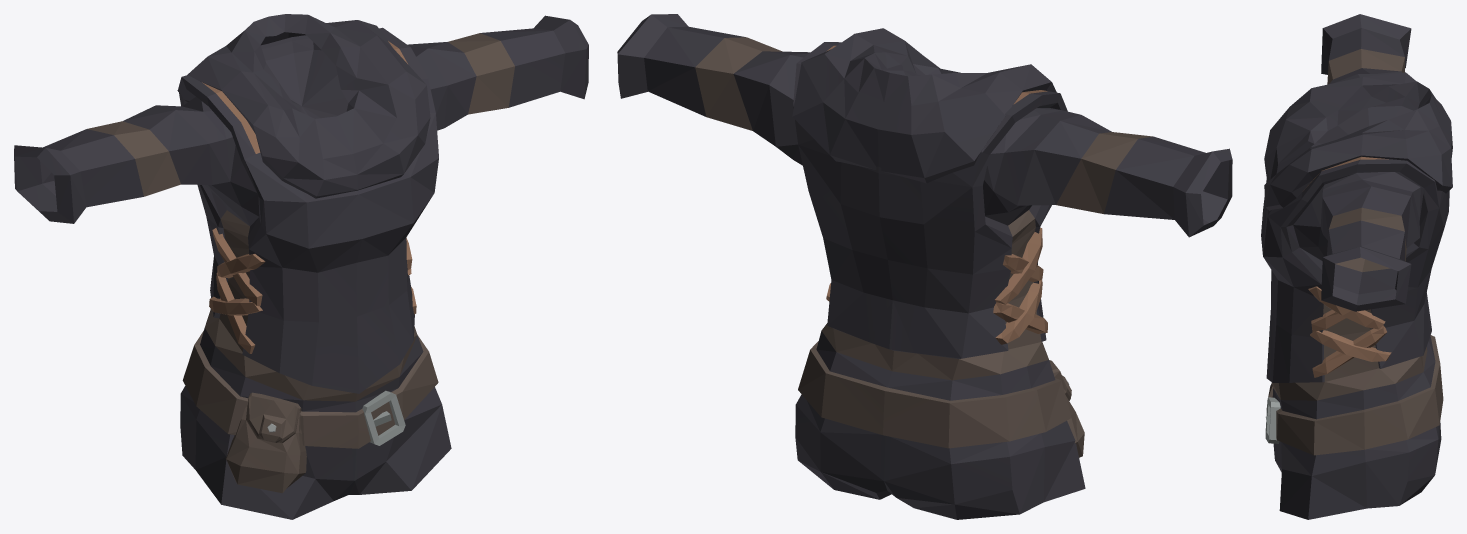
The model's file is armorThiefDisplay.fbx.
The picture shows the model from 3 angles, left to right: view 1: azimuth 30°, elevation 25°; view 2: azimuth 150°, elevation 25°; view 3: azimuth 270°, elevation 25°; orthographic projection. The views are drawn at different scales.
Parts seen in each view (by area): view 1: armorThiefDisplay; view 2: armorThiefDisplay; view 3: armorThiefDisplay.
Boxes of the visible parts, x1,y1,x2,y2 form: armorThiefDisplay: (14, 14, 588, 519); armorThiefDisplay: (617, 14, 1232, 519); armorThiefDisplay: (1261, 14, 1452, 519).
Bounding box in the file's own units: 1.81 × 1.36 × 0.6058.
